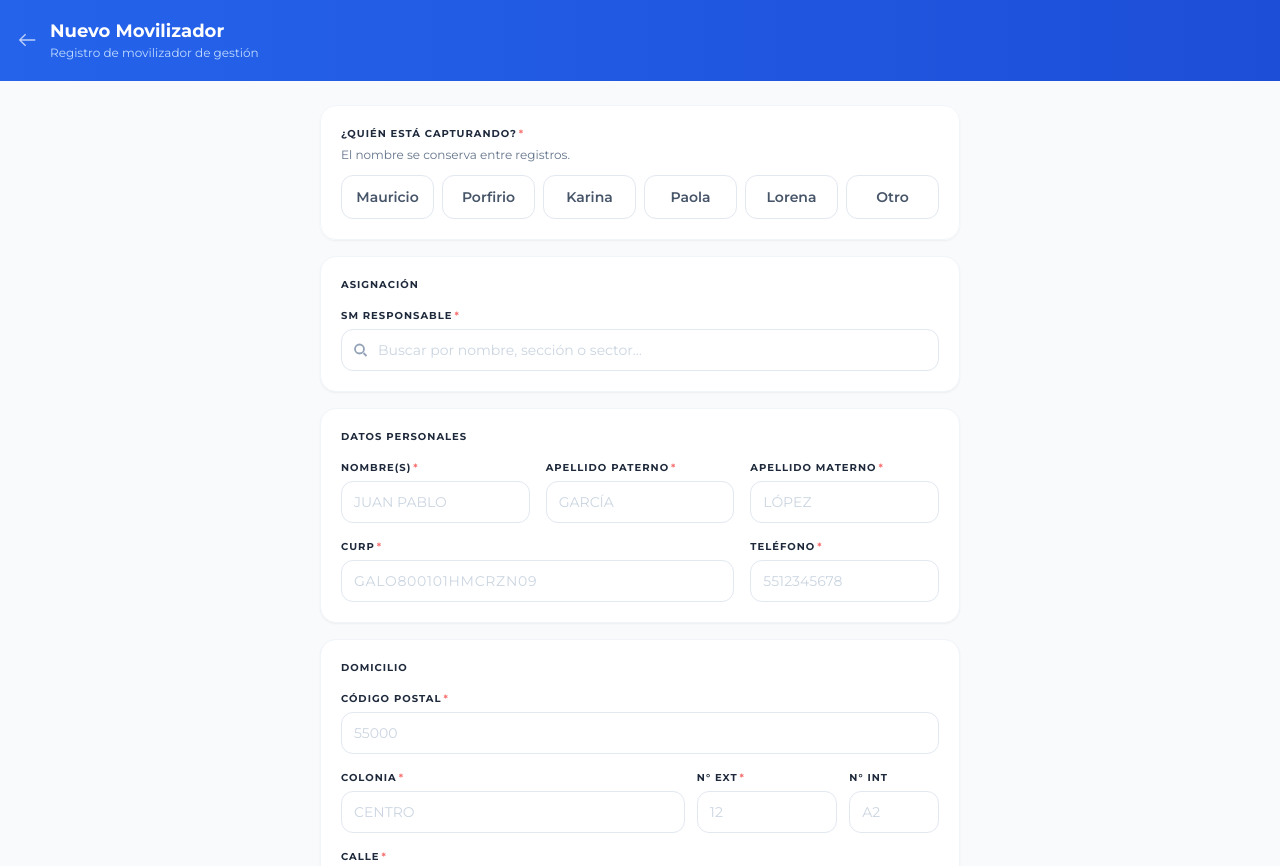
Test: el buscador encuentra a la SM con "Maria Elena Lopez Garcia" pese a espacios, acentos u orden
The width and height of the screenshot is (1280, 866).
Focus the field with placeholder "Buscar por nombre, sección o sector…". click: (640, 350)
box: [341, 328, 939, 370]
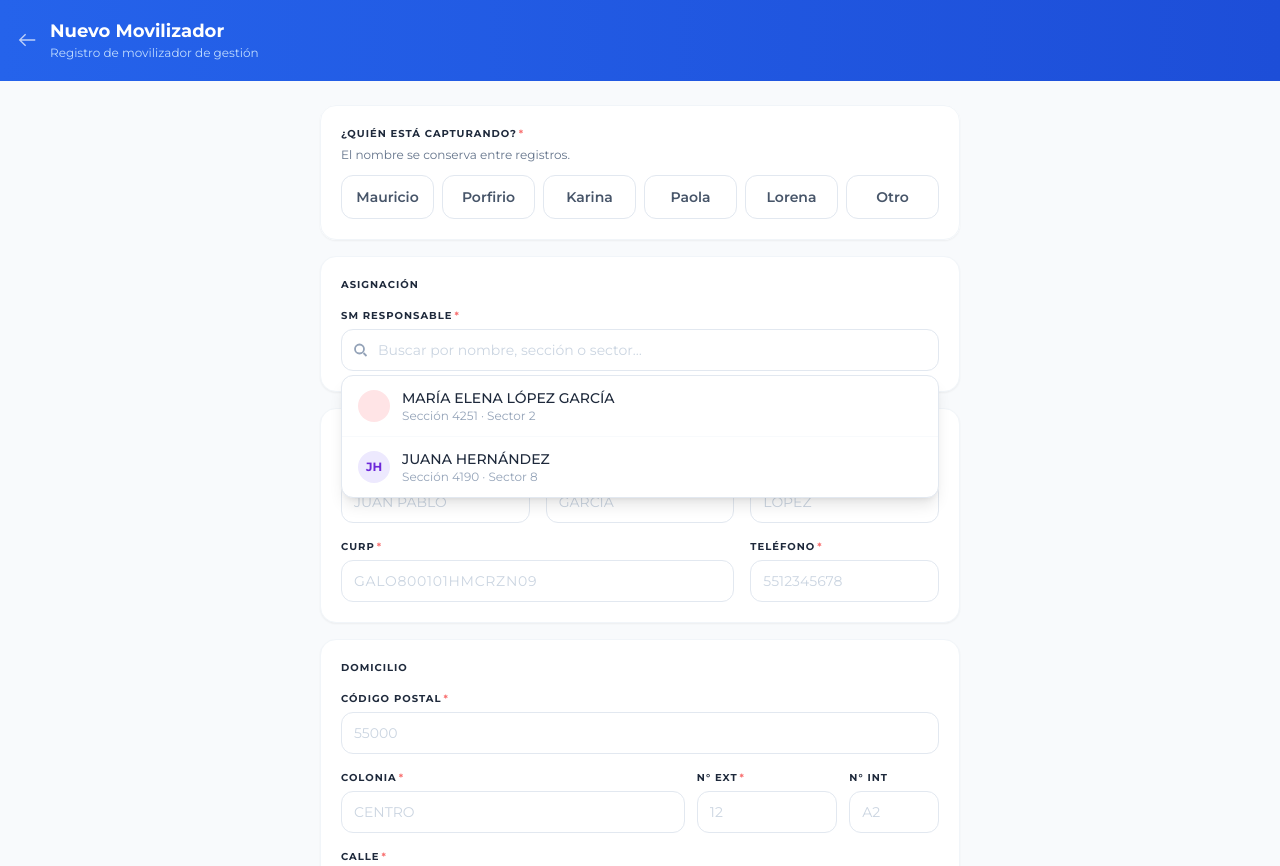
Expected: the button "MARÍA ELENA LÓPEZ GARCÍA Sección 4251 · Sector 2" is shown, [342, 376, 938, 436]
Type "Maria Elena Lopez Garcia" into the field with placeholder "Buscar por nombre, sección o sector…". click: (640, 350)
box: [341, 328, 939, 370]
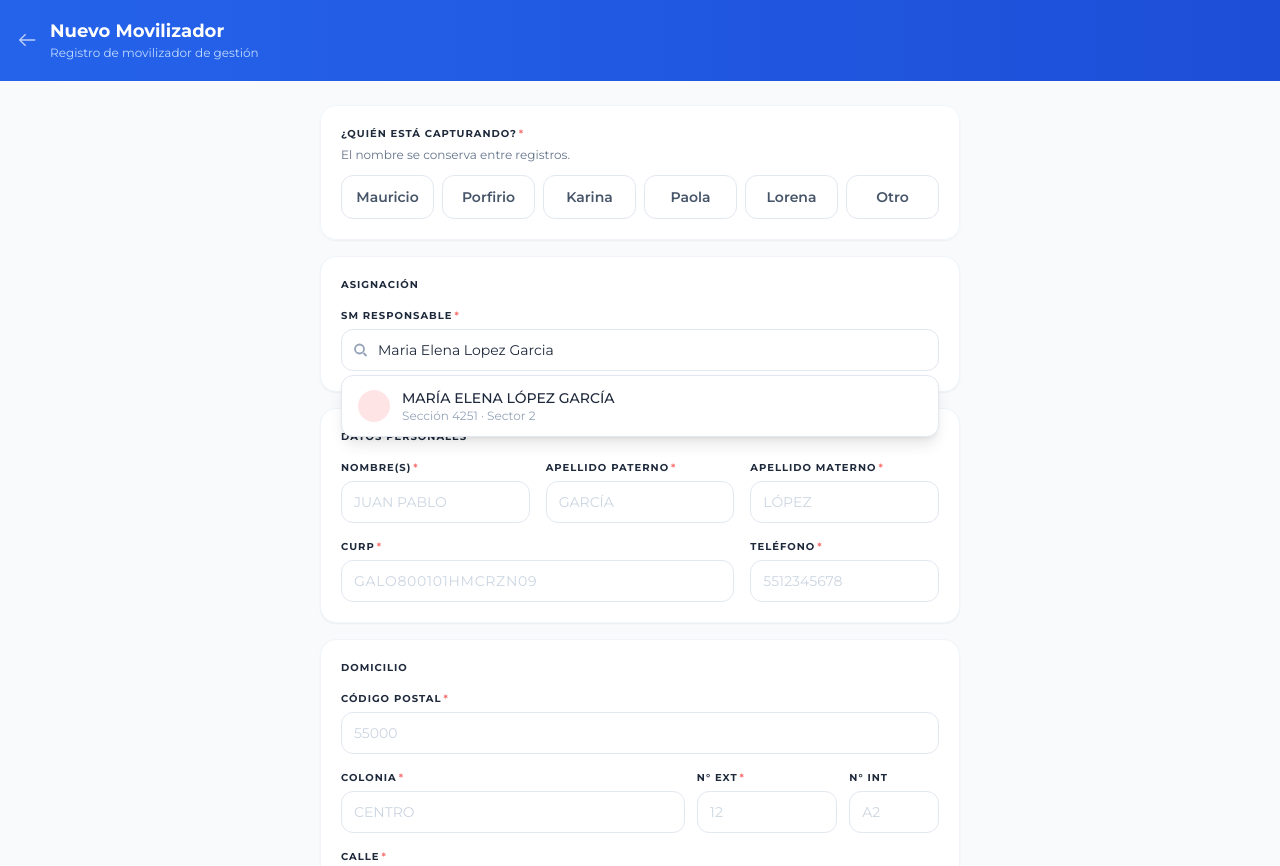
Expected: the button "MARÍA ELENA LÓPEZ GARCÍA Sección 4251 · Sector 2" is shown
Expected: the button "JUANA" is gone
Click the button "MARÍA ELENA LÓPEZ GARCÍA Sección 4251 · Sector 2". click: (374, 406)
box: [342, 376, 938, 436]
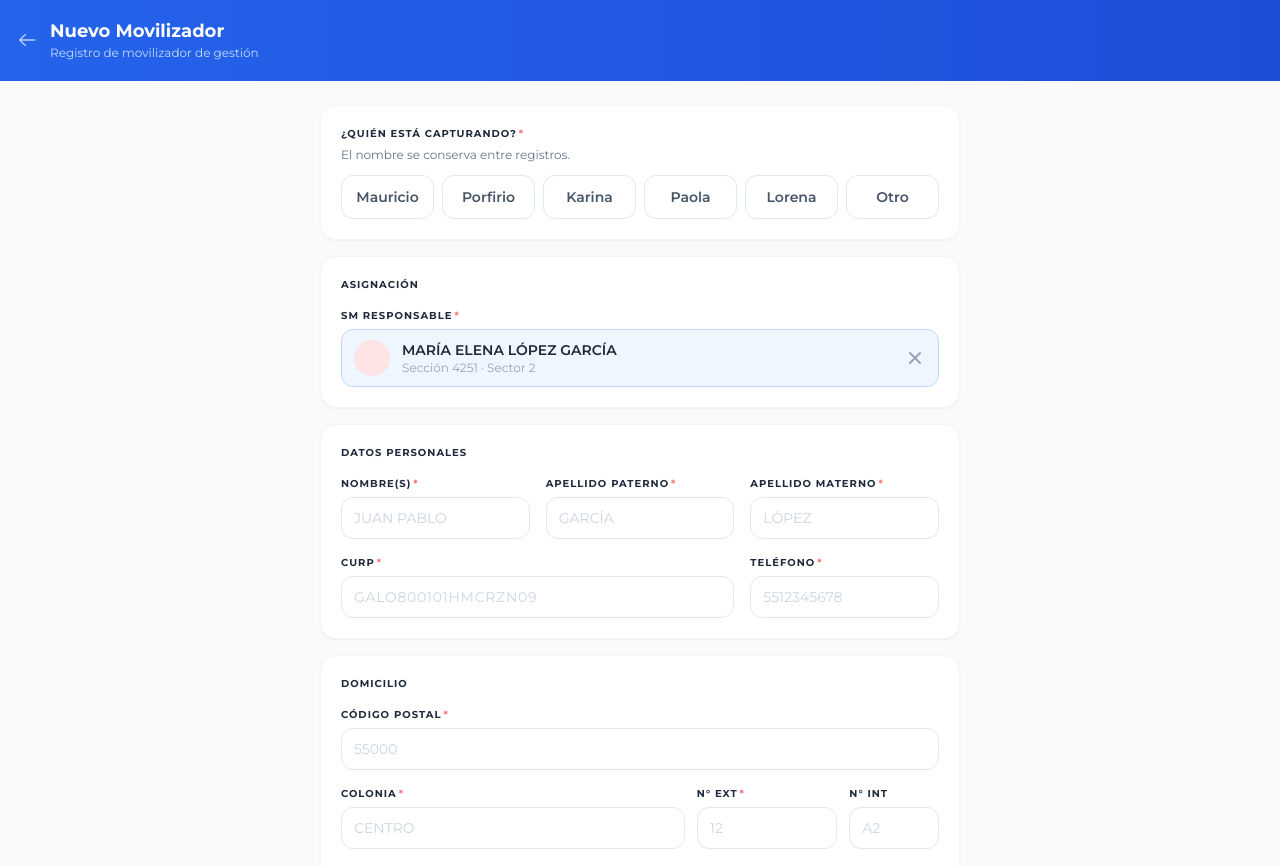
Expected: the button named "Cambiar SM" is shown, [904, 346, 926, 368]
